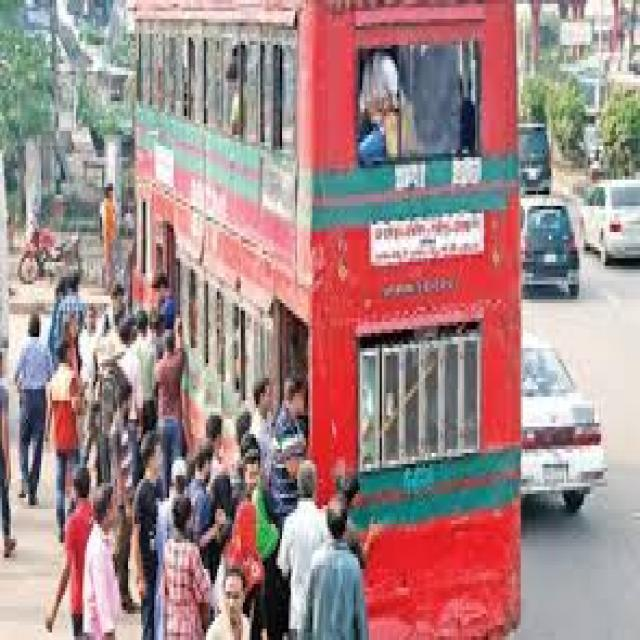bus: (124, 0, 522, 636)
